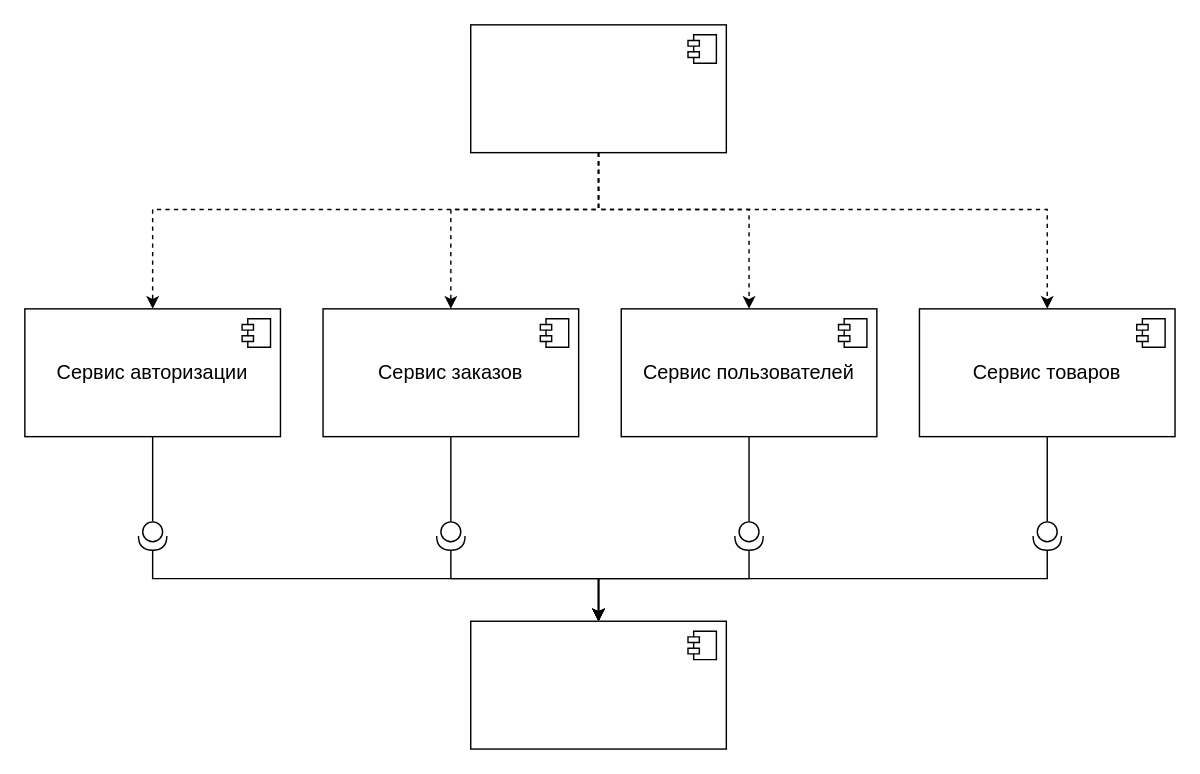
Some shapes in this 1200 by 774 pixel diagram are drawn without their labels. Here are the shapes that lost their labels. From the top down, the centre of each, then its label:
[597,88]: Компонент транспортного слоя
[597,684]: Компонент доступа к данным
